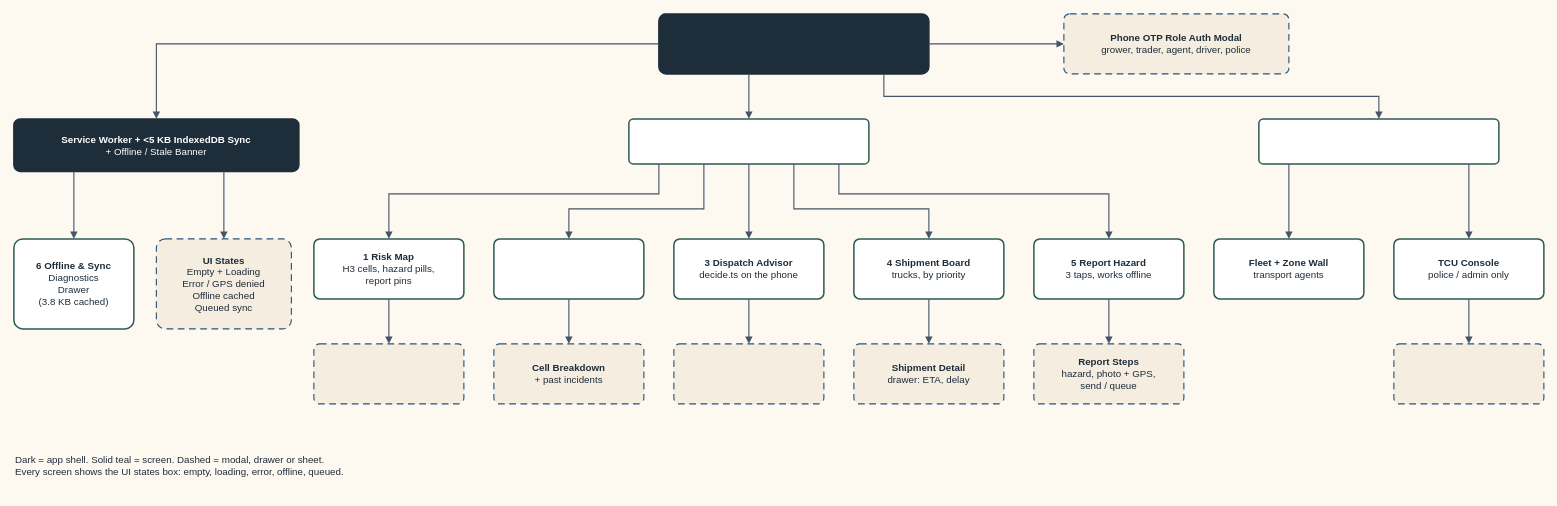
Image size: 1557x506. Some labels were removed from this diagram. The shapes that lost their labels are listed below. From the top down, each one's centre as x and y in pixels, then its label:
pixel 793 43: RouteGuard PWA (App Shell) Next.js PWA on Vercel, installs from the browser
pixel 748 141: Mobile PWA, 390 px bottom nav, 5 tabs
pixel 1378 141: Desktop Control Room, 1440 px agents and TCU police
pixel 568 268: 2 48 h Zone Strip 6 zones x 4 horizons (/status)
pixel 388 373: H3 Cell / Zone Explainability Sheet exposure x trigger
pixel 748 373: Advice Card + Commit to Board
pixel 1468 373: TCU Official Advisory Override Modal
